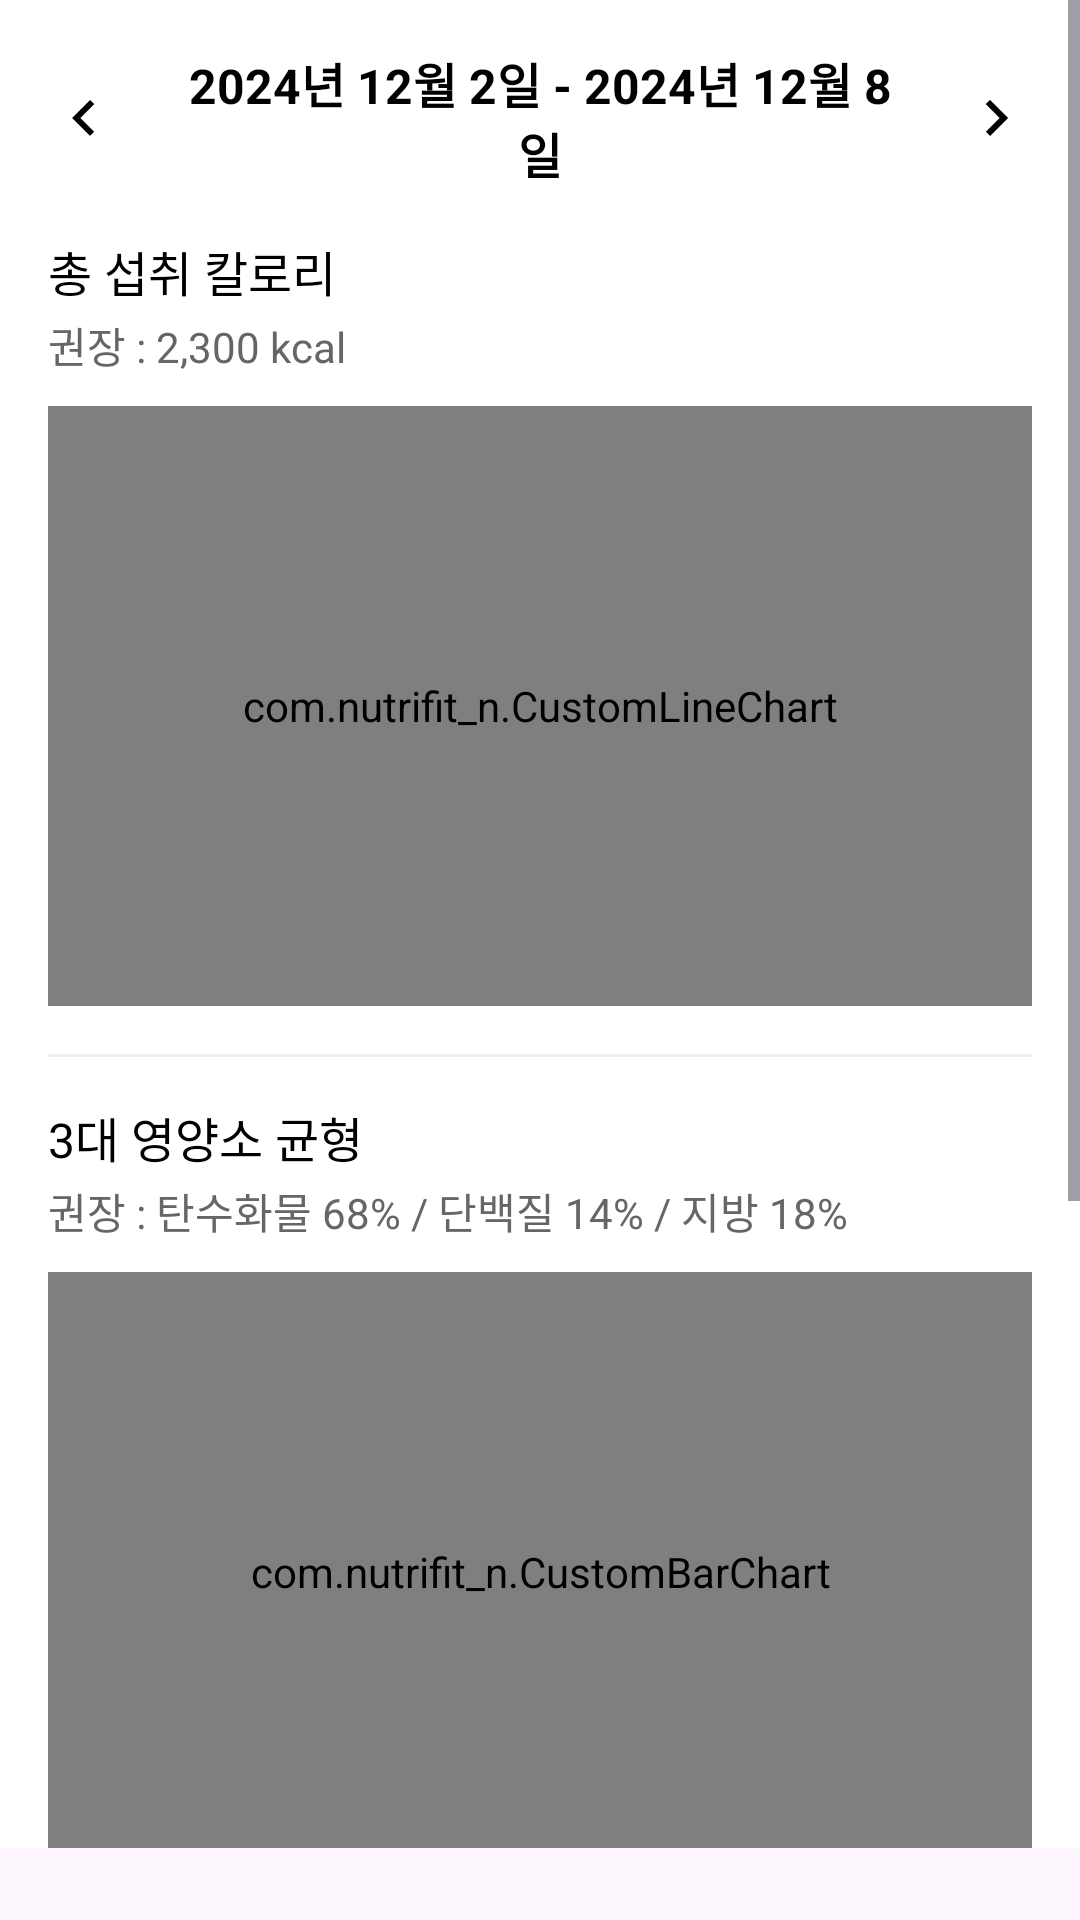

Icon bounding boxes for this 1080 x 1920 phone screenshot, format (left=x1, top=y1, right=x2, bottom=y2):
arrow left: (left=72, top=100, right=94, bottom=136)
arrow right: (left=986, top=100, right=1008, bottom=136)
